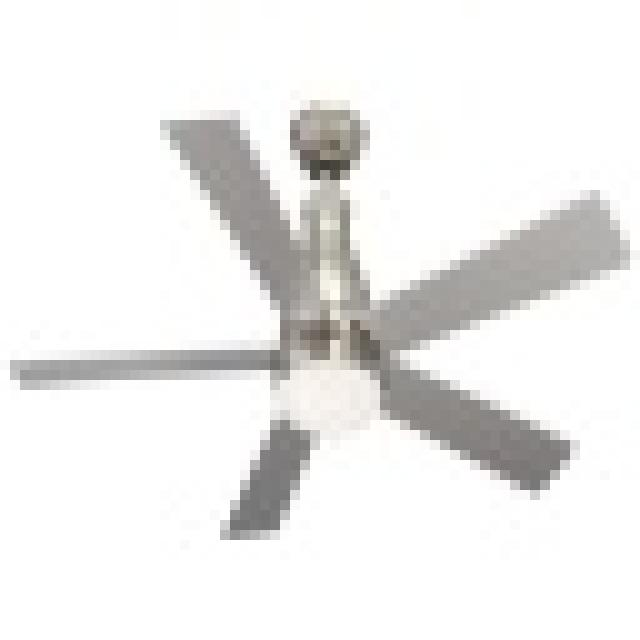Bulb: (24, 105, 640, 542)
